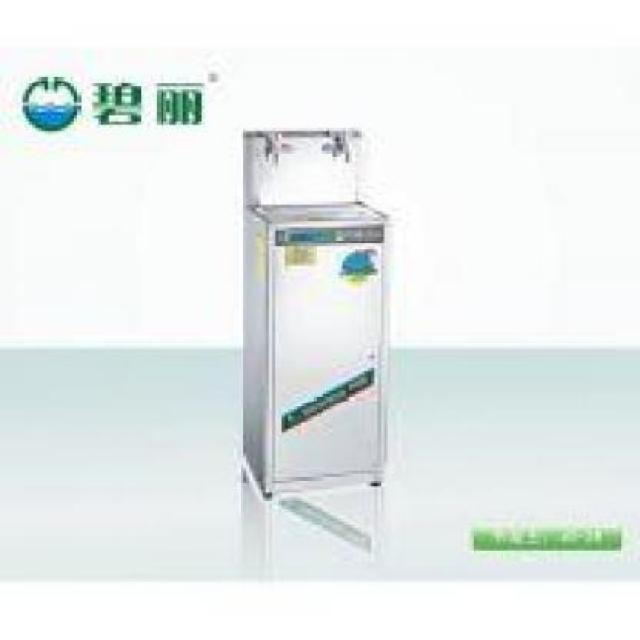cooler: (240, 126, 393, 503)
